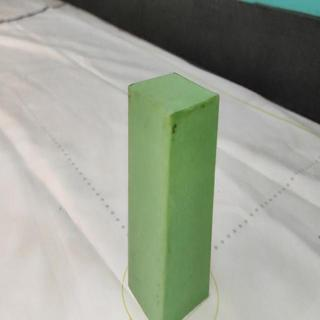greenbox: (125, 69, 220, 320)
